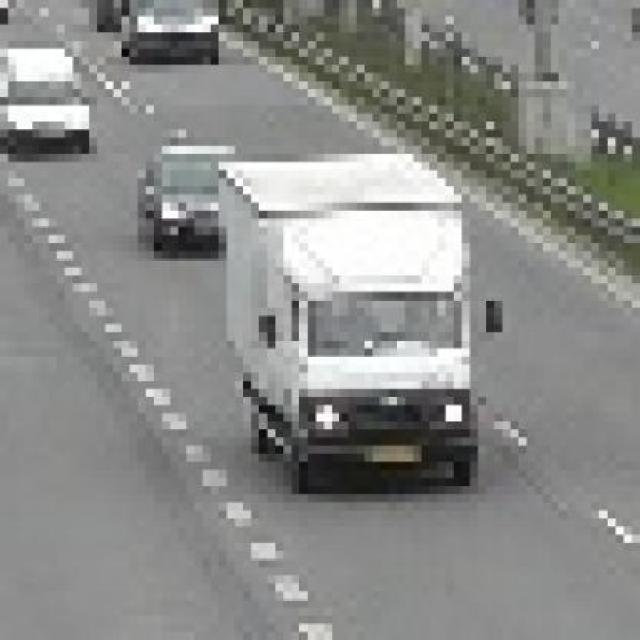truck: (236, 147, 511, 487)
